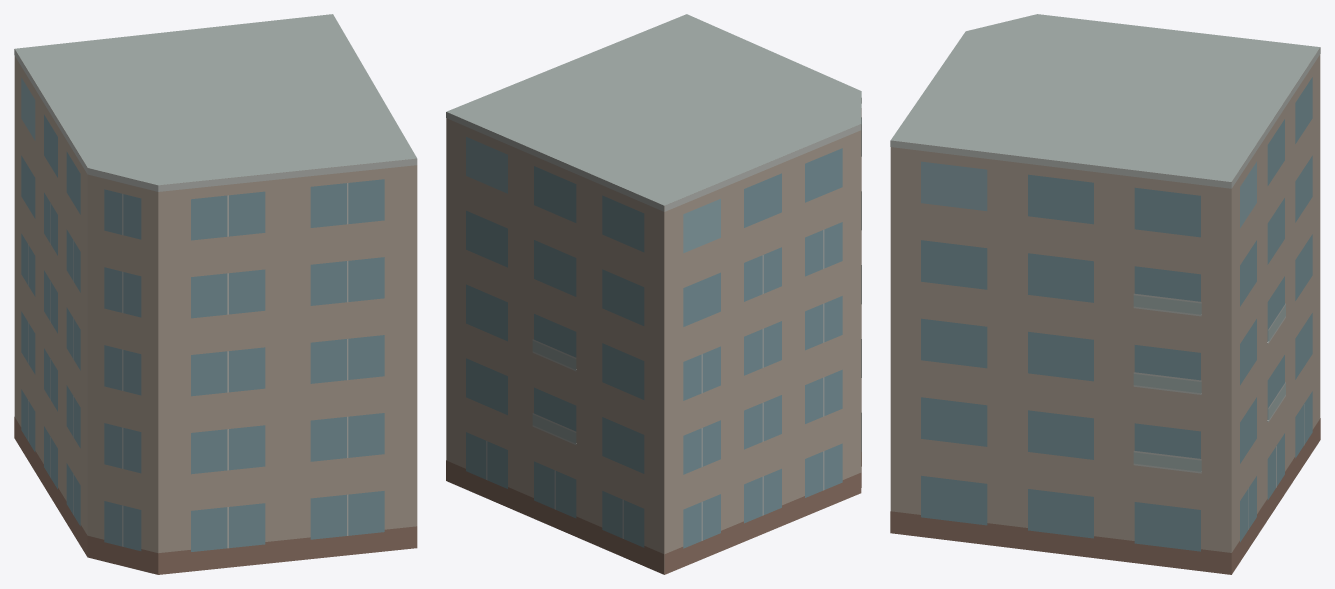
Rendered from survey-upis-32633446.glb.
3 renders of one model, left to right at view 1: azimuth 30°, elevation 25°; view 2: azimuth 150°, elevation 25°; view 3: azimuth 270°, elevation 25°, orthographic. The views are drawn at different scales.
Parts seen in each view (by area): view 1: survey-upis-32633446.tmp; view 2: survey-upis-32633446.tmp; view 3: survey-upis-32633446.tmp.
Part boxes in pixels (box(x1,y1,x2,y2)): survey-upis-32633446.tmp: box(14, 14, 417, 574); survey-upis-32633446.tmp: box(446, 14, 861, 574); survey-upis-32633446.tmp: box(890, 14, 1320, 574).
Size of the model in its own units: 13.23 by 14.4 by 14.3.
